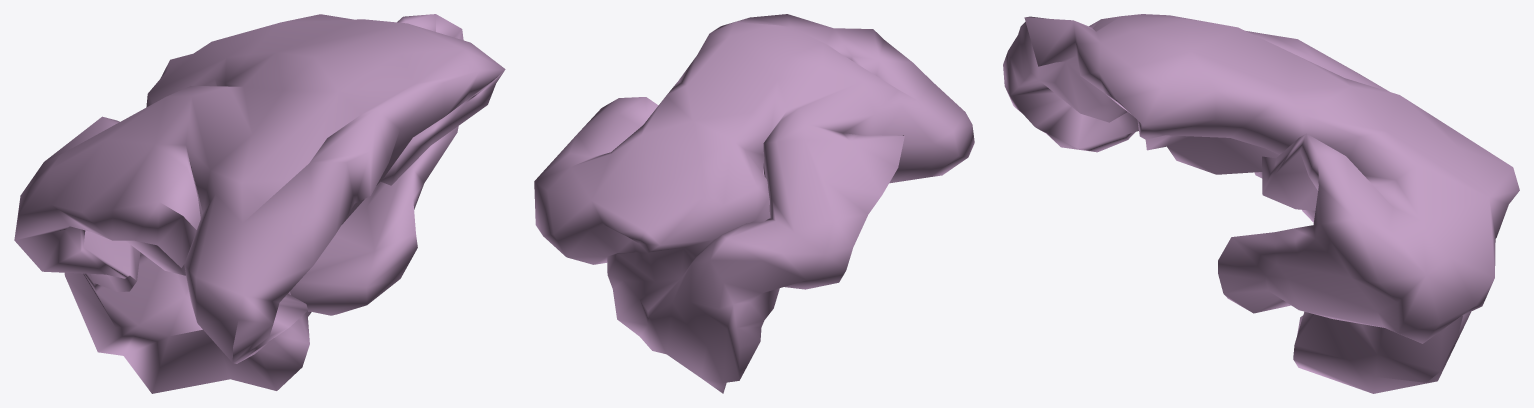
The picture shows the model from 3 angles, left to right: view 1: azimuth 30°, elevation 25°; view 2: azimuth 150°, elevation 25°; view 3: azimuth 270°, elevation 25°; orthographic projection. The views are drawn at different scales.
Parts seen in each view (by area): view 1: 右侧枕极; view 2: 右侧枕极; view 3: 右侧枕极.
Part boxes in pixels (box(x1,y1,x2,y2)): 右侧枕极: box(14, 14, 505, 393); 右侧枕极: box(534, 14, 974, 393); 右侧枕极: box(1003, 14, 1519, 393).
Size of the model in its own units: 0.0466 by 0.0418 by 0.0509.
